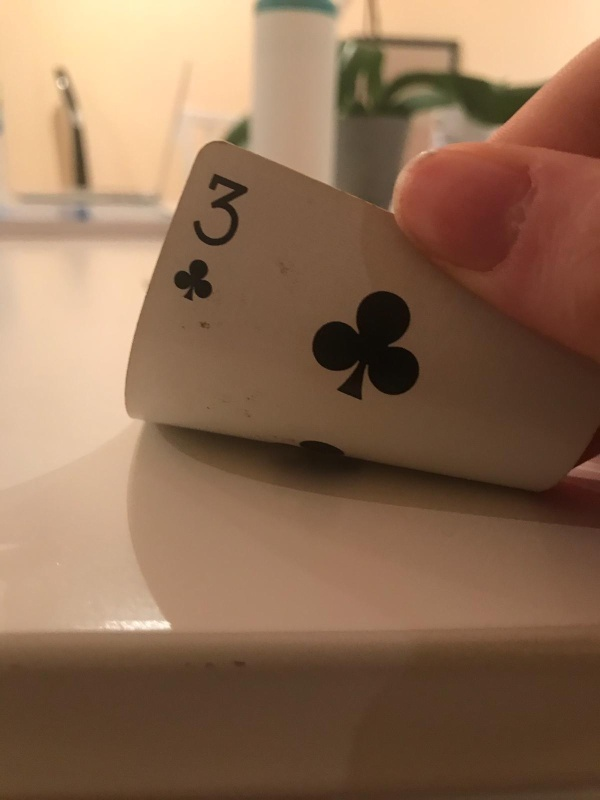C3: (167, 171, 247, 311)
